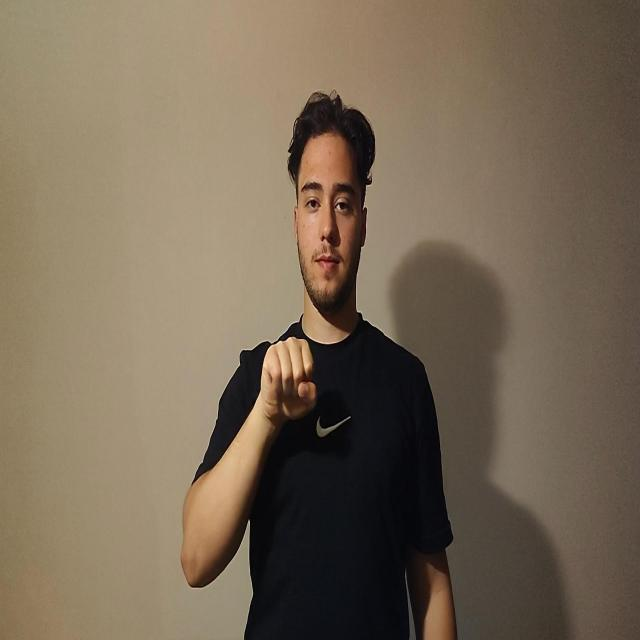yes: (260, 334, 318, 430)
